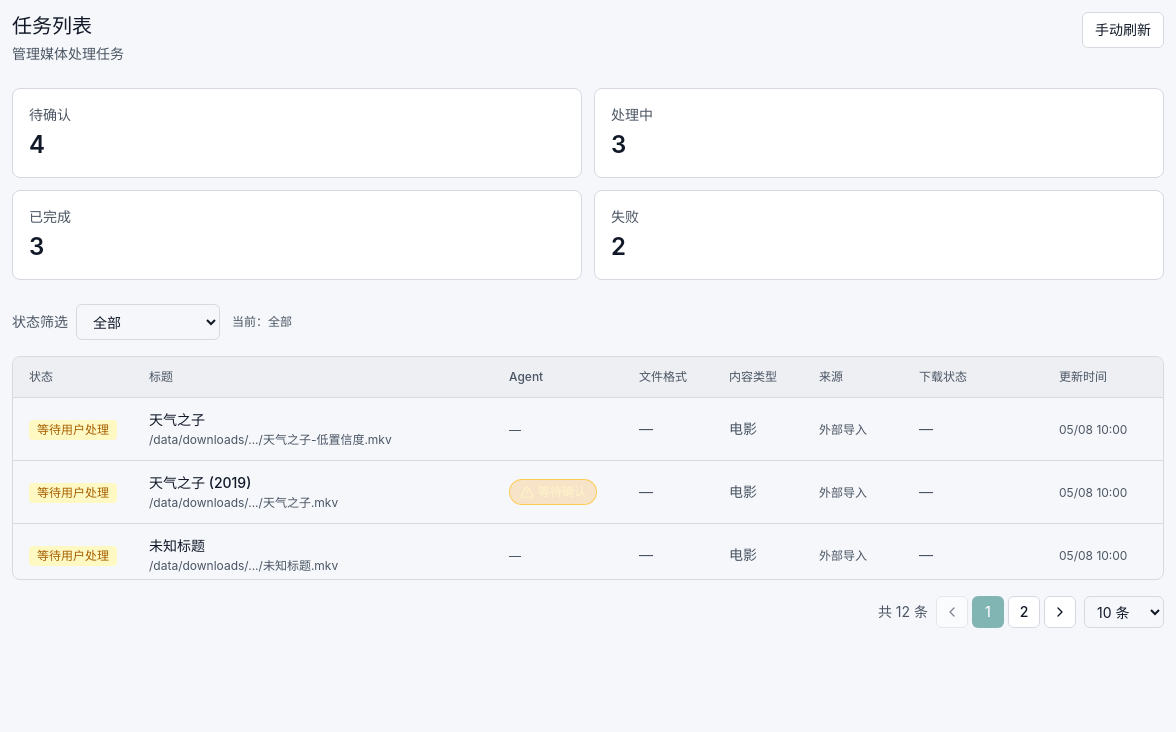
Test: TaskListPage › shows 已下载 for completed download tasks
Expected: the dropdown labelled "状态筛选" is shown, [76, 304, 220, 340]
Select "20 条" in the dropdown named "每页" at (1124, 612), box [1084, 596, 1164, 628]
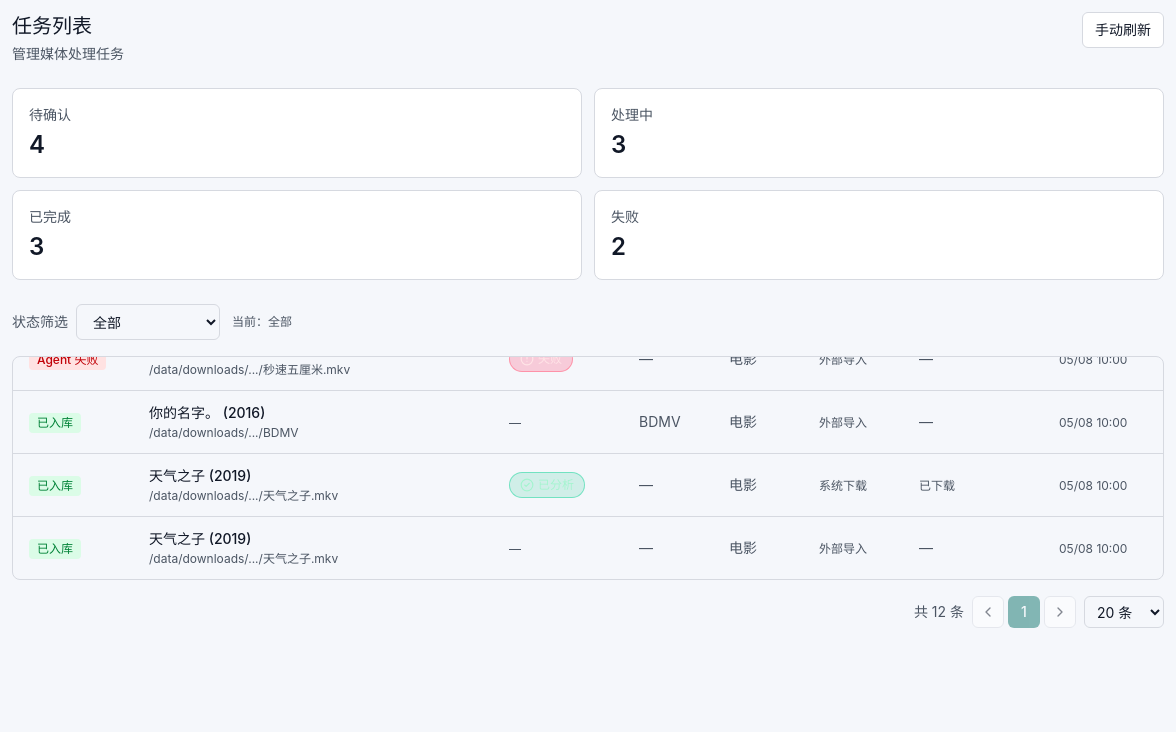
Now the text "已下载" is shown, box [919, 478, 955, 493]
